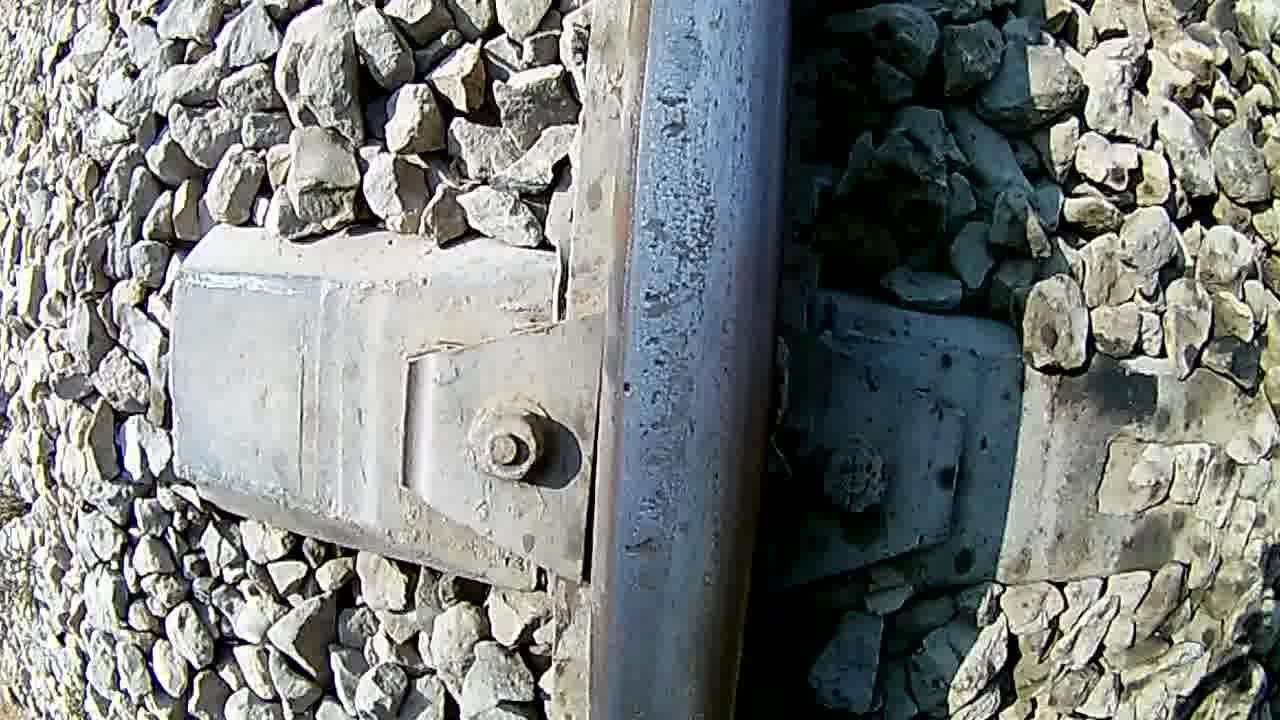crack: (594, 0, 783, 720)
